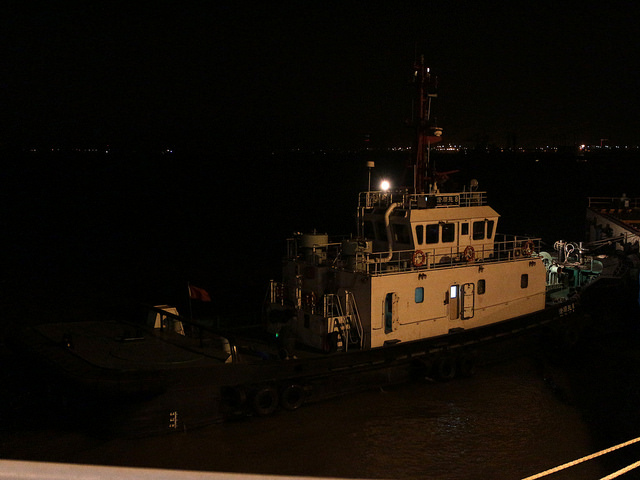tug_boat: (112, 67, 617, 431)
